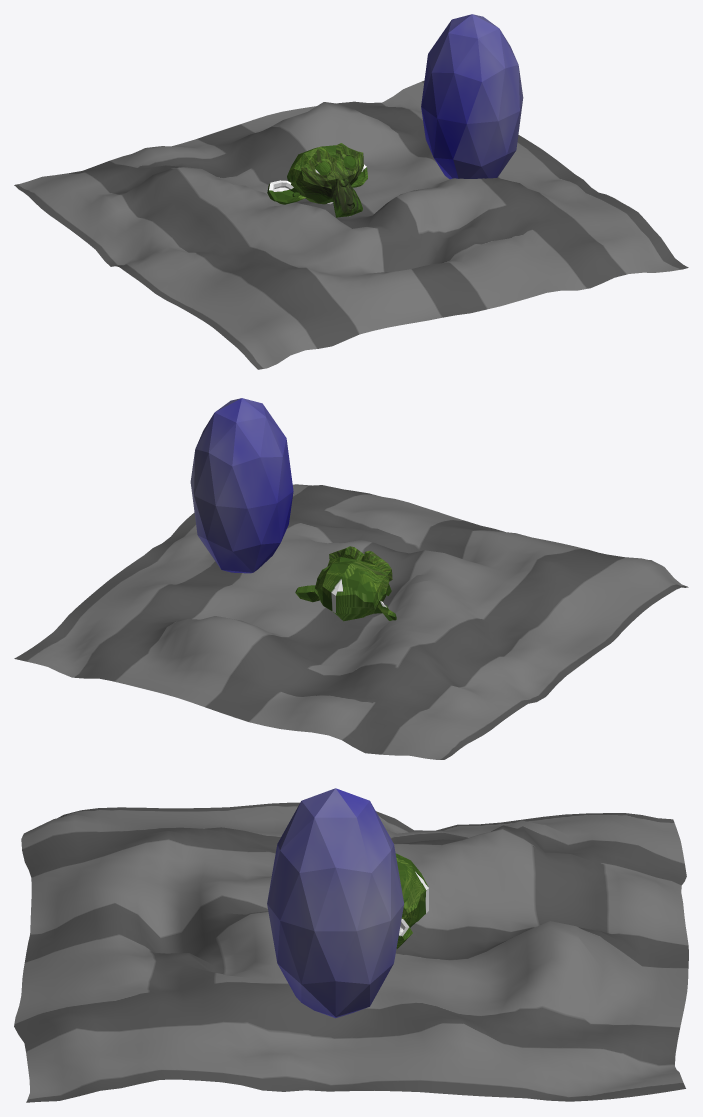
3 views of the same model, one above another, from view 1: azimuth 30°, elevation 25°; view 2: azimuth 150°, elevation 25°; view 3: azimuth 270°, elevation 25° (orthographic). The views are drawn at different scales.
Parts seen in each view (by area): view 1: Plane-col, Icosphere, Suzanne; view 2: Plane-col, Icosphere, Suzanne; view 3: Plane-col, Icosphere, Suzanne.
Part boxes in pixels (x1,y1,x2,y2): Plane-col: [14, 80, 688, 369]; Icosphere: [421, 14, 523, 179]; Suzanne: [267, 143, 367, 217]; Plane-col: [14, 484, 688, 759]; Icosphere: [190, 398, 293, 573]; Suzanne: [295, 546, 396, 621]; Plane-col: [14, 802, 688, 1102]; Icosphere: [267, 788, 404, 1018]; Suzanne: [395, 853, 428, 948].
Bounding box in the file's own units: 9.79 × 4.11 × 9.84.
3 materials, 3 textured.
